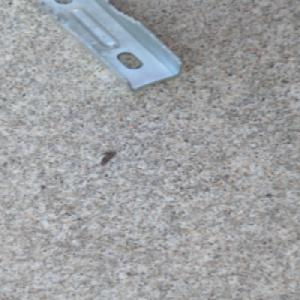ClampPart: (34, 0, 186, 93)
